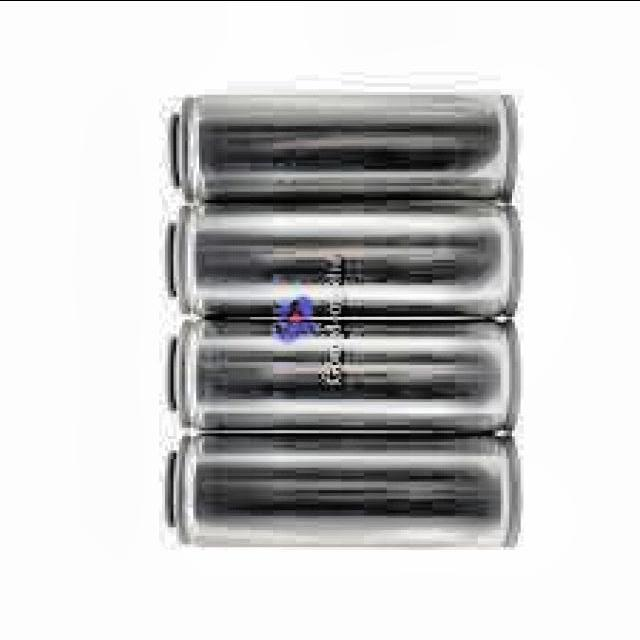Aluminum Can: (154, 198, 519, 322), (154, 429, 521, 552), (157, 314, 520, 435), (164, 82, 523, 204)
